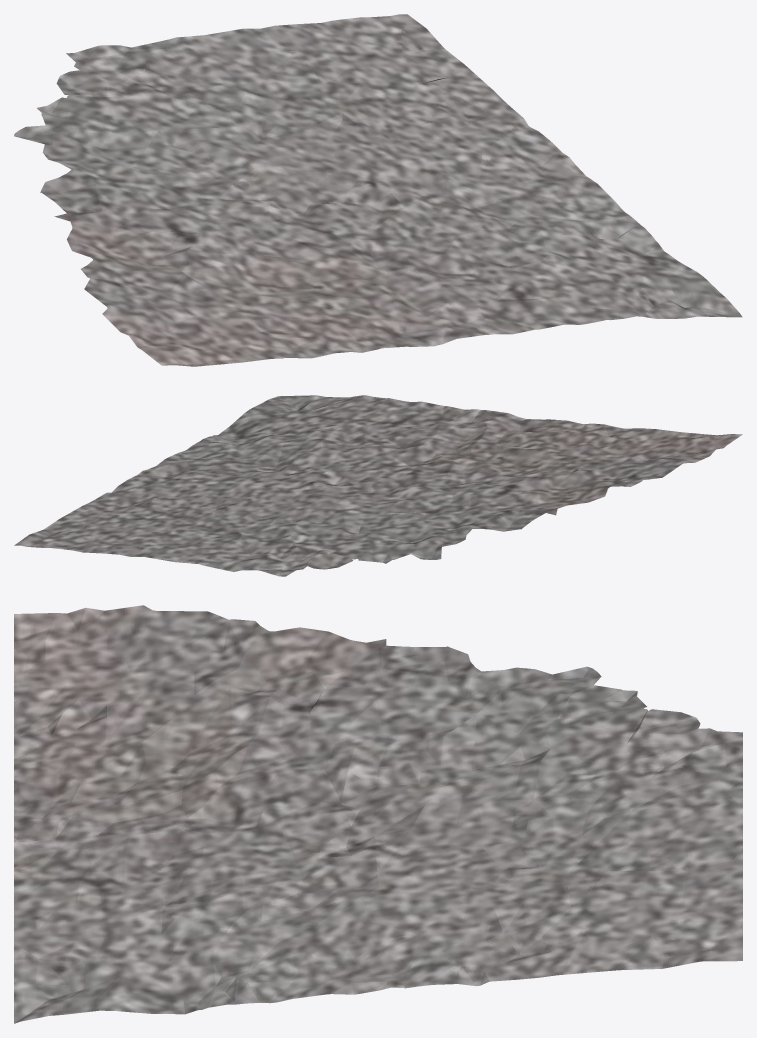
3 views of the same model, one above another, from view 1: azimuth 30°, elevation 25°; view 2: azimuth 150°, elevation 25°; view 3: azimuth 270°, elevation 25° (orthographic). The views are drawn at different scales.
Bounding box in the file's own units: 0.8373 × 0.14 × 0.8373.
2 materials, 2 textured.
